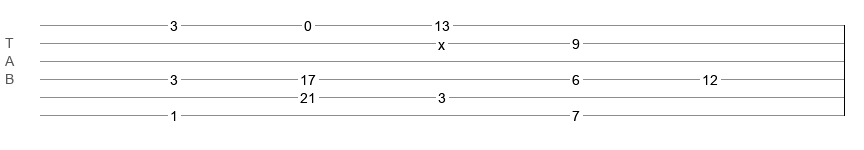0: (304, 18, 312, 28)
1: (170, 108, 178, 118)
12: (702, 72, 718, 82)
13: (434, 18, 450, 28)
17: (300, 72, 316, 82)
21: (300, 90, 316, 100)
3: (170, 18, 178, 28), (170, 72, 178, 82), (438, 90, 446, 100)
6: (572, 72, 580, 82)
7: (572, 108, 580, 118)
9: (572, 36, 580, 46)
x: (438, 37, 445, 45)
